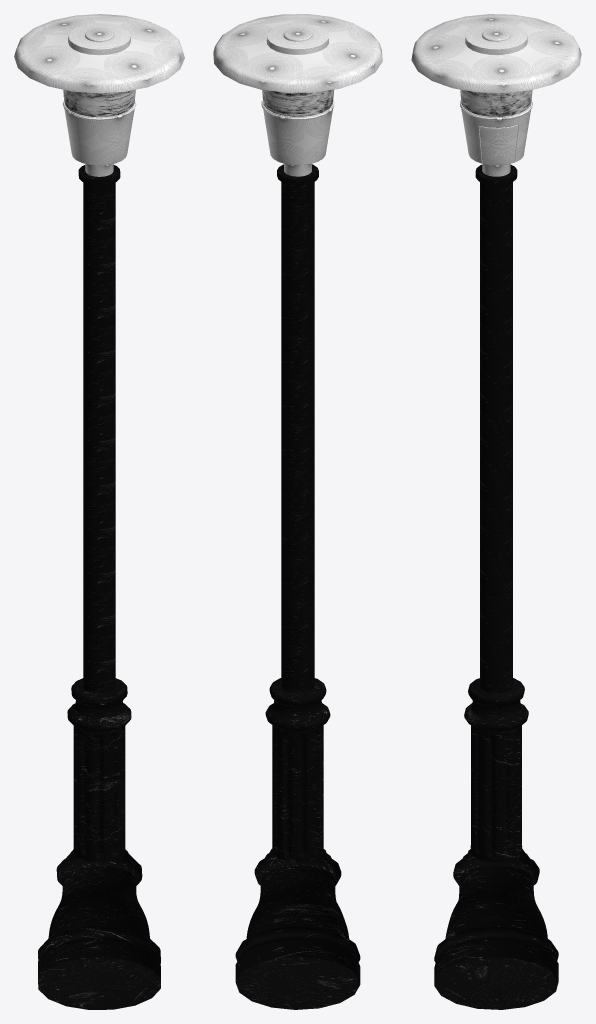
Rendered from AEL_245_Contempo_obj.obj.
3 views of the same model, side by side, from view 1: azimuth 30°, elevation 25°; view 2: azimuth 150°, elevation 25°; view 3: azimuth 270°, elevation 25° (orthographic).
Visible parts, largest first — view 1: Cylinder038, Line030, Series_245_Contempo, Cylinder036, Line029, Object039, Cylinder037; view 2: Cylinder038, Line030, Series_245_Contempo, Cylinder036, Line029, Object039, Cylinder037; view 3: Cylinder038, Line030, Series_245_Contempo, Cylinder036, Line029, Object039, Cylinder037.
Boxes of the visible parts, <box> form: Cylinder038: <box>83,182,115,693</box>; Line030: <box>38,849,160,1009</box>; Series_245_Contempo: <box>14,14,184,176</box>; Cylinder036: <box>73,726,125,862</box>; Line029: <box>67,678,131,731</box>; Object039: <box>63,89,135,117</box>; Cylinder037: <box>78,165,120,185</box>; Cylinder038: <box>281,182,314,693</box>; Line030: <box>235,849,360,1009</box>; Series_245_Contempo: <box>213,14,382,176</box>; Cylinder036: <box>272,725,323,862</box>; Line029: <box>265,678,330,731</box>; Object039: <box>262,89,333,116</box>; Cylinder037: <box>277,164,318,185</box>; Cylinder038: <box>480,182,512,693</box>; Line030: <box>434,848,558,1009</box>; Series_245_Contempo: <box>411,14,581,176</box>; Cylinder036: <box>470,725,522,862</box>; Line029: <box>464,678,528,731</box>; Object039: <box>460,89,532,117</box>; Cylinder037: <box>475,165,517,185</box>.
Size of the model in its own units: 55.92 by 344 by 55.92.
3 materials, 3 textured.
